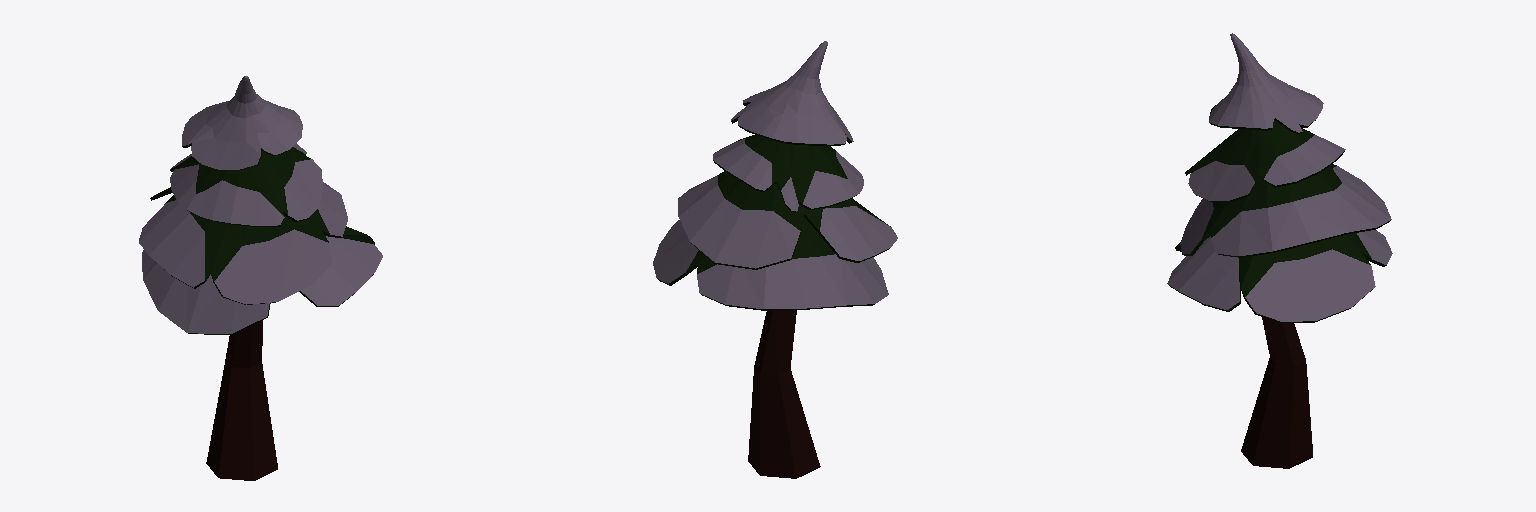
Rendered from PineTree_Snow_5.obj.
The picture shows the model from 3 angles: view 1: azimuth 30°, elevation 25°; view 2: azimuth 150°, elevation 25°; view 3: azimuth 270°, elevation 25°; orthographic projection.
Visible parts, largest first — view 1: PineTree_Snow_5_Cylinder.076; view 2: PineTree_Snow_5_Cylinder.076; view 3: PineTree_Snow_5_Cylinder.076.
Boxes of the visible parts, box(x1,y1,x2,y2) form: PineTree_Snow_5_Cylinder.076: box(139, 76, 382, 480); PineTree_Snow_5_Cylinder.076: box(653, 41, 897, 478); PineTree_Snow_5_Cylinder.076: box(1167, 33, 1392, 468).
Bounding box in the file's own units: 1.47 × 2.69 × 1.34.